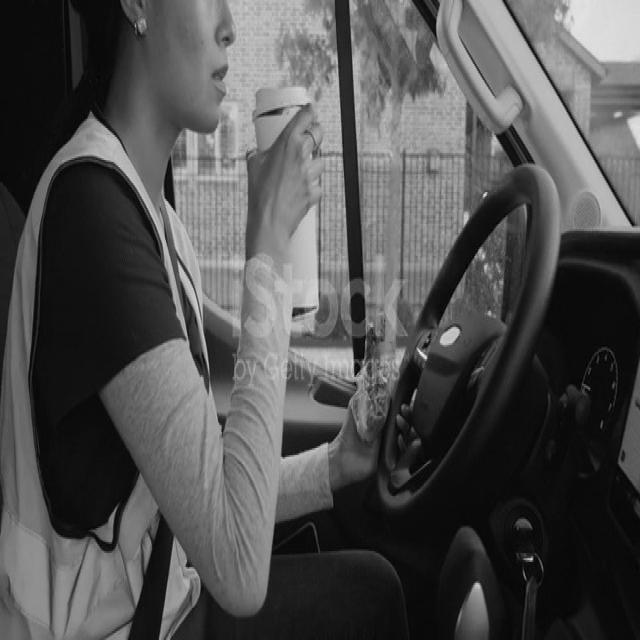Drinking: (91, 0, 338, 341)
